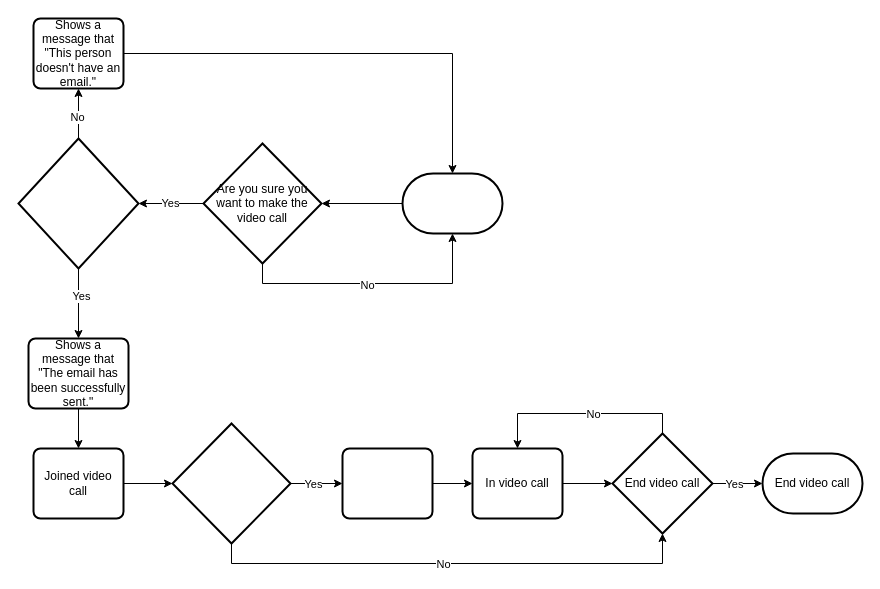
Image size: 880x589. Some labels were removed from this diagram. Each missing label, with the centre of its shape:
"Admit the retiree" goes at (387,483).
"Did the retiree join the call" goes at (231,483).
"Does the retiree have an email address" goes at (78,203).
"Start video call" goes at (452,203).
